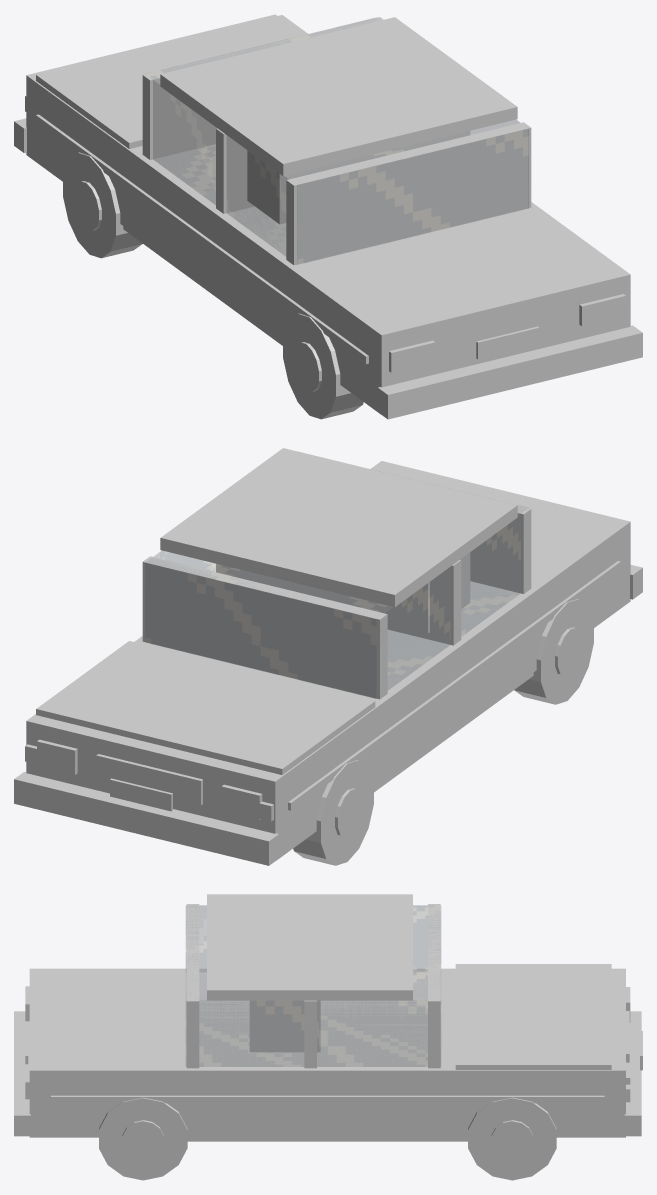
File: car_a_police_navy.glb
The picture shows the model from 3 angles, top to bottom: view 1: azimuth 30°, elevation 25°; view 2: azimuth 150°, elevation 25°; view 3: azimuth 270°, elevation 25°; orthographic projection. The views are drawn at different scales.
Visible parts, largest first — view 1: gas_station_town; view 2: gas_station_town; view 3: gas_station_town.
Part boxes in pixels (box(x1,y1,x2,y2)): gas_station_town: box(14, 14, 642, 419); gas_station_town: box(14, 448, 642, 865); gas_station_town: box(14, 894, 642, 1180).
Bounding box in the file's own units: 1.8 × 1.44 × 4.43.
2 materials, 1 textured.
